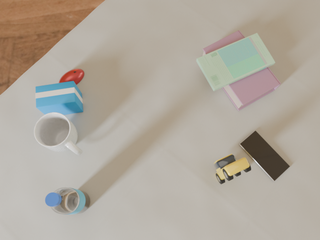book: (203, 30, 281, 111), (197, 33, 275, 91)
bottle: (45, 188, 90, 214)
box: (35, 81, 83, 115)
cup: (34, 112, 83, 155)
mouse: (59, 69, 84, 85)
phone: (240, 131, 290, 181)
toy_car: (214, 154, 251, 184)
